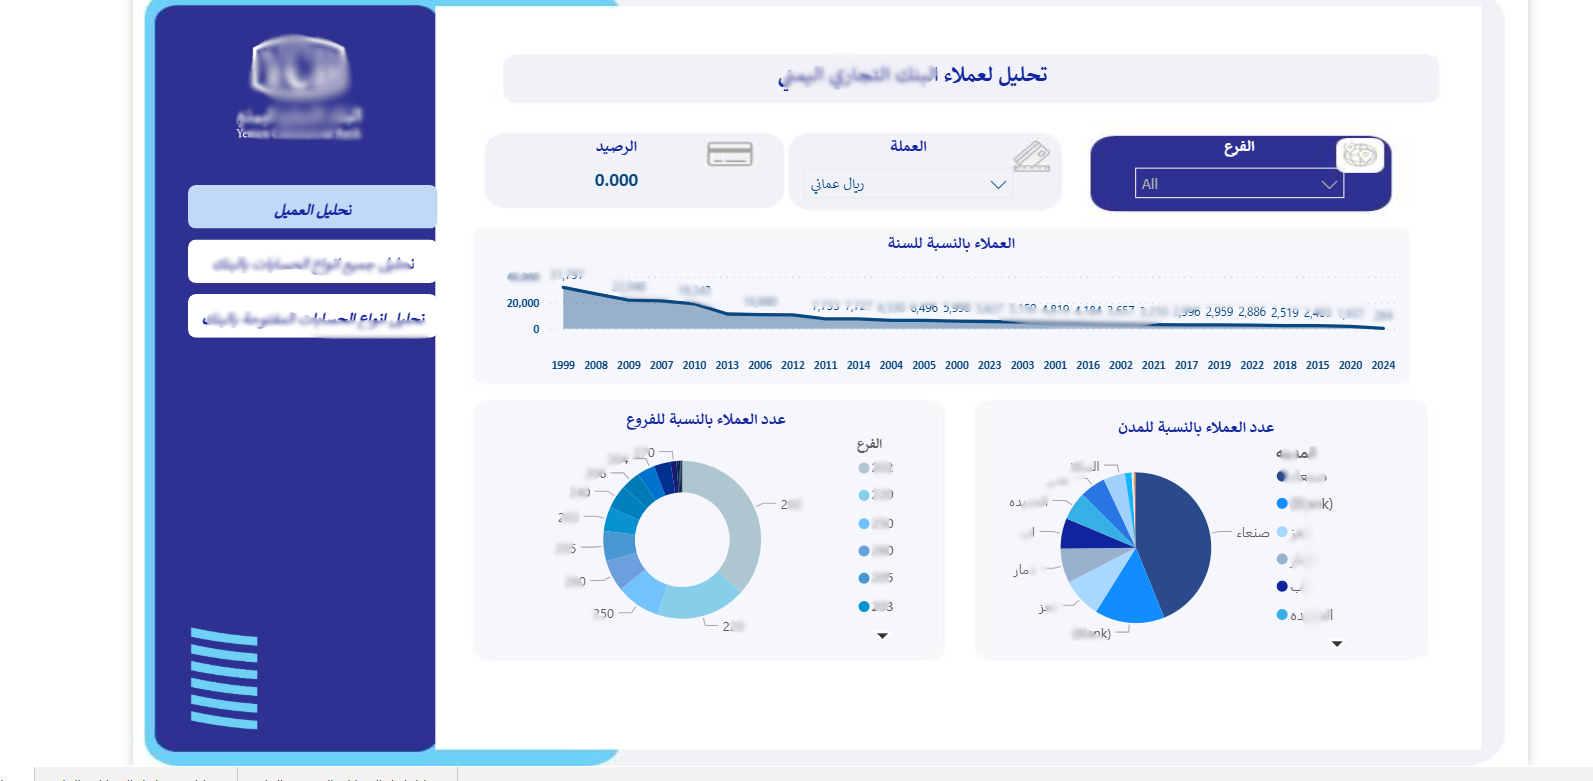

Layout of this report page (visuals, bound fields, positions):
{"tool":"powerbi","page":{"name":"تحليل العميل ","canvas":[1280,720],"ordinal":0},"visuals":[{"type":"card","title":"الرصيد","fields":{"Values":["Sum(Query6.SUM(A.PRE_DAY_CRNT_BAL))"]},"box":[321.9,146.1,209.9,63.7],"z":0},{"type":"textbox","box":[34.1,69.2,809.8,49.4],"z":1000},{"type":"image","box":[23.1,36.3,257.1,130.7],"z":2000},{"type":"donutChart","title":"عدد العملاء بالنسبة للفروع","fields":{"Category":["Query1.الفرع"],"Y":["Sum(Query1.عدد العملاء بكل فرع )"]},"box":[338.4,392.2,374.7,220.8],"z":3000},{"type":"pieChart","title":"عدد العملاء بالنسبة للمدن ","fields":{"Category":["Query4.المدينه"],"Y":["Sum(Query4.عدد العملاء)"]},"box":[786.7,399.9,376.9,220.8],"z":4000},{"type":"stackedAreaChart","title":"العملاء بالنسبة للسنة","fields":{"Category":["Query5.TO_CHAR(DATE_OPEN,'YYYY') Hierarchy.TO_CHAR(DATE_OPEN,'YYYY')"],"Y":["Sum(Query5.COUNT(CUS_NUM))"]},"box":[337.3,230.7,826.2,137.3],"z":5000},{"type":"slicer","title":"الفرع","fields":{"Values":["Query6.BRA_CODE"]},"box":[907.5,141.7,218.6,89],"z":6000},{"type":"slicer","title":"العملة","fields":{"Values":["Query6.DES_NAT_LAN"]},"box":[603.2,141.7,218.6,89],"z":7000},{"type":"image","box":[0,584.5,159.3,111],"z":8000},{"type":"pageNavigator","box":[50.5,186.8,229.6,142.8],"z":8001}]}

Visuals, with their boxes on the page's 1280x720 design canvas (x1, y1, x2, y2). These are canvas units, not pixel positions in the 1593x781 screenshot, which may show the page scaled, cropped or inside an application window:
"الرصيد" card: 322, 146, 532, 210
textbox: 34, 69, 844, 119
image: 23, 36, 280, 167
"عدد العملاء بالنسبة للفروع" donutChart: 338, 392, 713, 613
"عدد العملاء بالنسبة للمدن " pieChart: 787, 400, 1164, 621
"العملاء بالنسبة للسنة" stackedAreaChart: 337, 231, 1164, 368
"الفرع" slicer: 908, 142, 1126, 231
"العملة" slicer: 603, 142, 822, 231
image: 0, 584, 159, 696
pageNavigator: 50, 187, 280, 330
